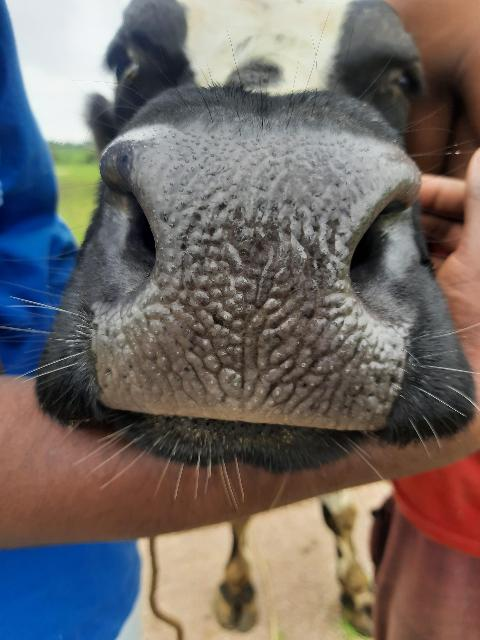Muzzle: (116, 128, 396, 416)
